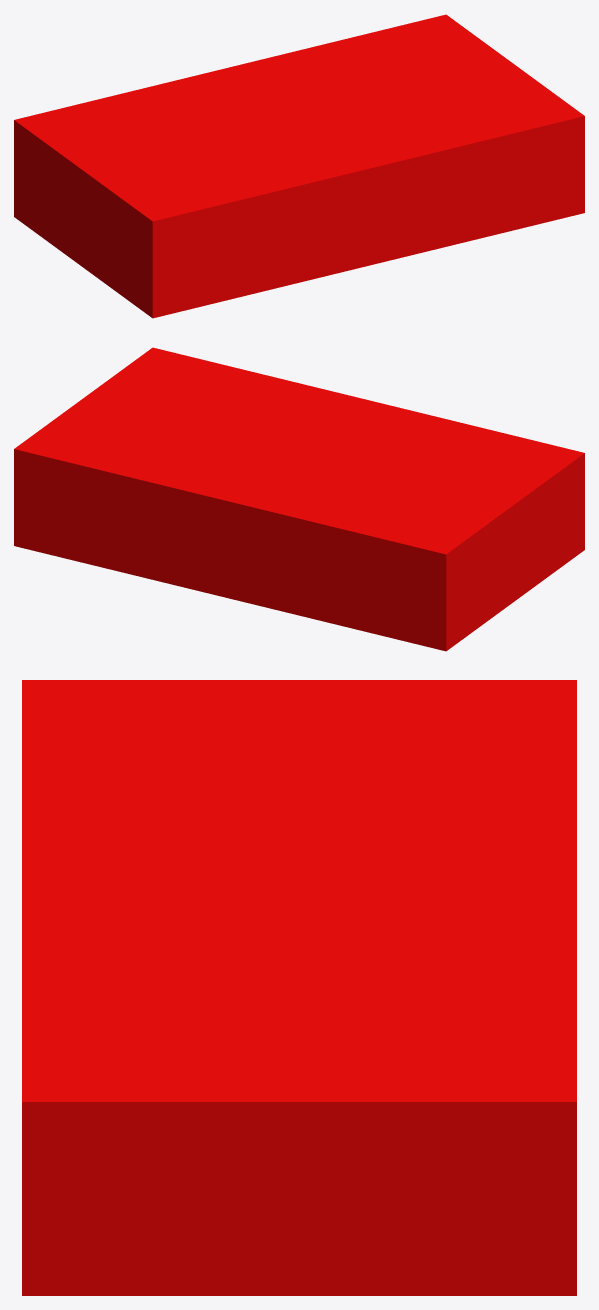
Rendered from metatarsal3_lv_col.dae.
The picture shows the model from 3 angles, top to bottom: view 1: azimuth 30°, elevation 25°; view 2: azimuth 150°, elevation 25°; view 3: azimuth 270°, elevation 25°; orthographic projection. The views are drawn at different scales.
Visible parts, largest first — view 1: node0; view 2: node0; view 3: node0.
Boxes of the visible parts, box(x1,y1,x2,y2) form: node0: box(14, 14, 584, 318); node0: box(14, 347, 584, 651); node0: box(22, 680, 576, 1295).
Size of the model in its own units: 0.0646 by 0.0138 by 0.0359.
